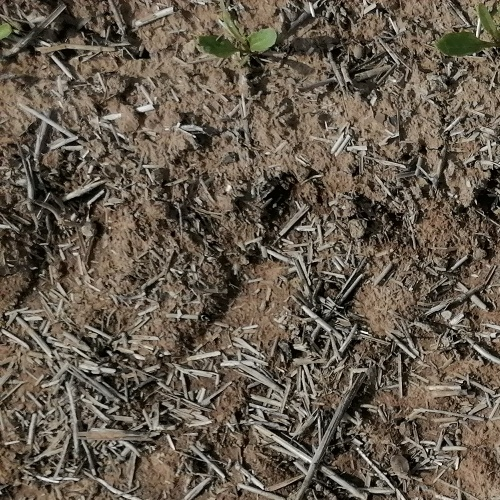beet: (198, 13, 278, 68), (434, 1, 500, 59)
